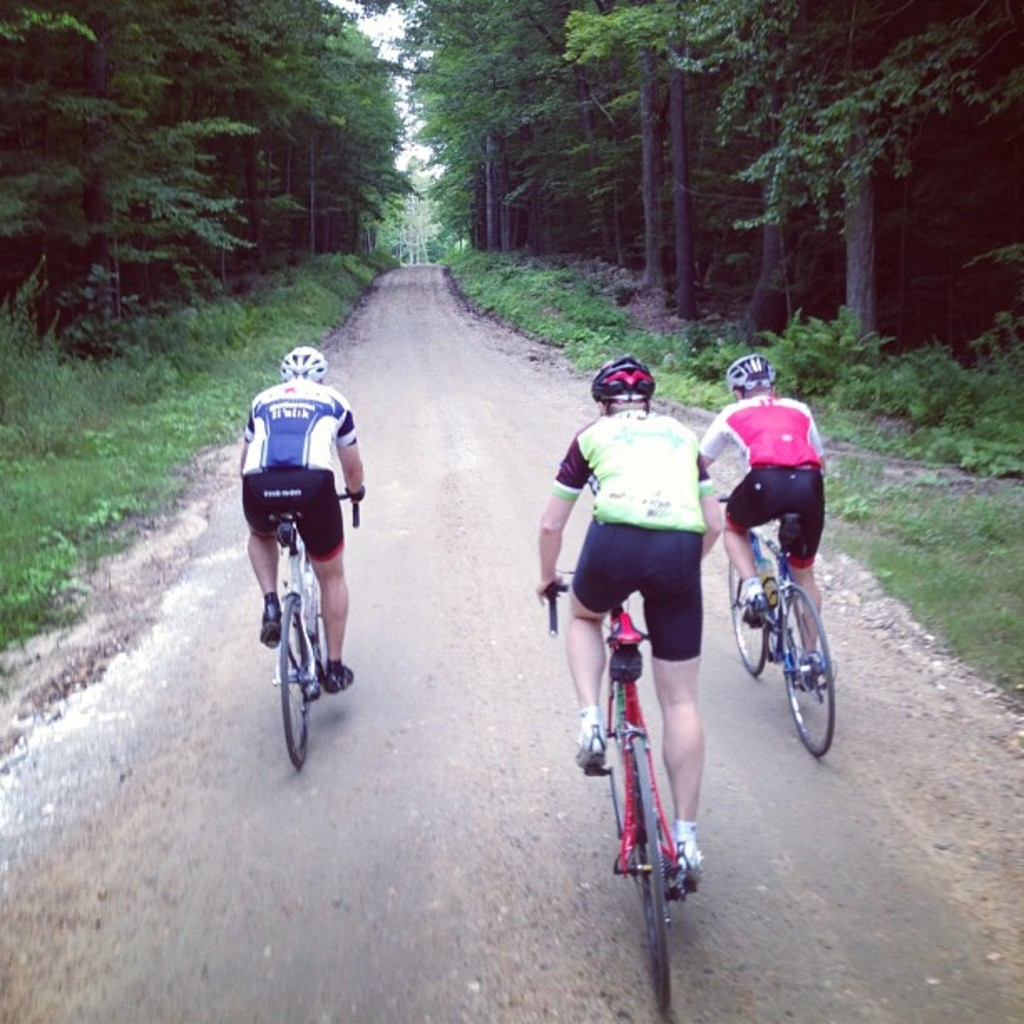Bike: (488, 559, 750, 1024), (204, 479, 429, 825)
